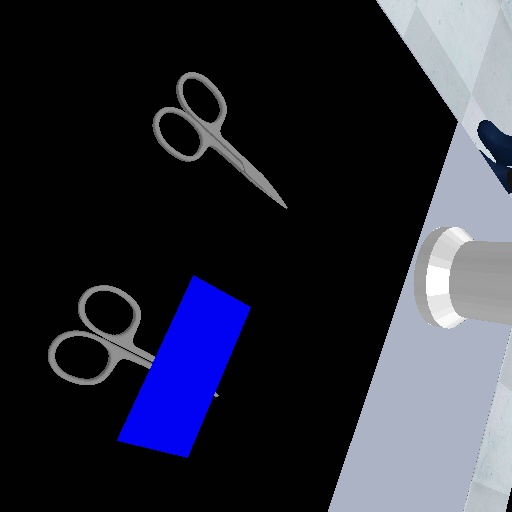tijera: (148, 69, 290, 215), (45, 282, 158, 388)
